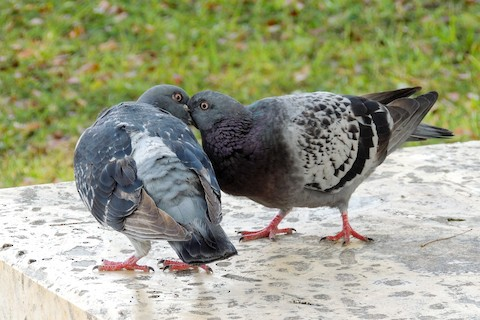pigeon: (188, 77, 461, 250), (71, 87, 239, 276)
